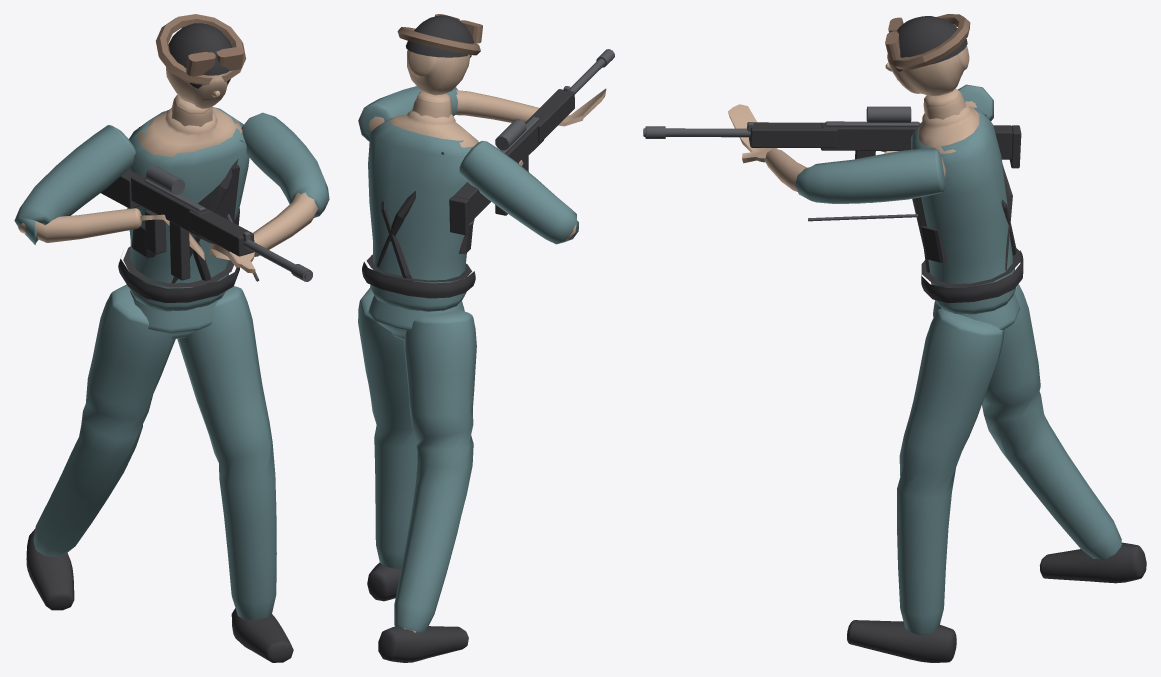
The model's file is tactical-shooter-hill-town-recon-operator-standing-aim-4e708016__27571.glb.
The picture shows the model from 3 angles, left to right: view 1: azimuth 30°, elevation 25°; view 2: azimuth 150°, elevation 25°; view 3: azimuth 270°, elevation 25°; orthographic projection. The views are drawn at different scales.
Parts seen in each view (by area): view 1: recon-operator-standing-aim; view 2: recon-operator-standing-aim; view 3: recon-operator-standing-aim.
Boxes of the visible parts, box(x1,y1,x2,y2) form: recon-operator-standing-aim: box(14, 14, 329, 662); recon-operator-standing-aim: box(358, 14, 614, 662); recon-operator-standing-aim: box(643, 14, 1146, 662).
Bounding box in the file's own units: 0.71 × 1.72 × 1.27.
